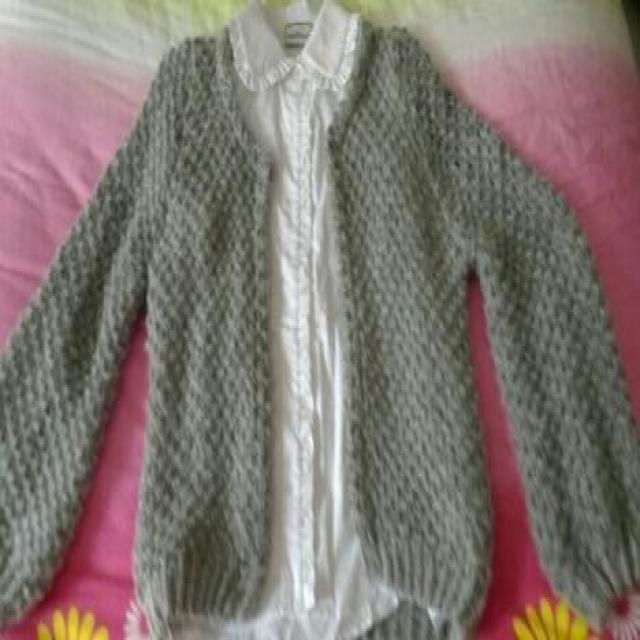long sleeve top: (1, 5, 639, 638)
